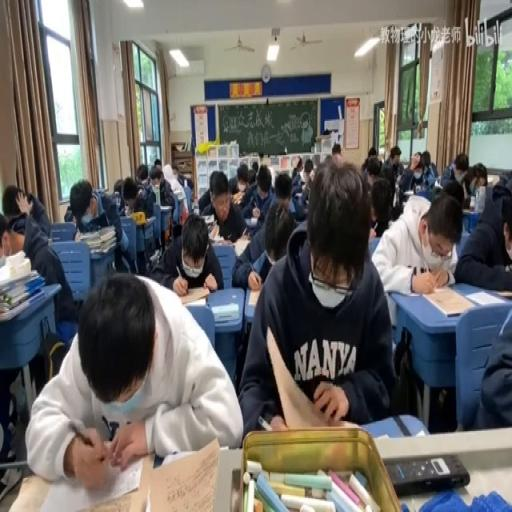calculator: (6, 451, 154, 512), (144, 435, 221, 512), (420, 283, 474, 314), (464, 288, 503, 306), (177, 286, 209, 306), (210, 300, 238, 322), (234, 234, 250, 258), (91, 209, 107, 228), (210, 233, 233, 246), (246, 287, 260, 307), (148, 248, 160, 268), (230, 188, 244, 205), (414, 186, 430, 200), (208, 222, 219, 240), (462, 200, 476, 212), (153, 184, 160, 206), (202, 213, 214, 225), (486, 175, 499, 186), (144, 214, 155, 224), (248, 214, 258, 224), (434, 176, 442, 188), (192, 200, 198, 214), (403, 189, 414, 196), (183, 178, 187, 186)
paper: (27, 268, 241, 484), (238, 156, 394, 436), (2, 182, 82, 337), (371, 186, 461, 306), (453, 173, 512, 292), (65, 175, 129, 279), (149, 210, 222, 293), (469, 289, 511, 431), (196, 165, 238, 218), (144, 162, 177, 226), (243, 164, 275, 230), (398, 146, 432, 194), (2, 182, 30, 219), (462, 164, 485, 200), (439, 179, 464, 208), (272, 170, 291, 204), (384, 145, 402, 178), (289, 192, 307, 220), (360, 145, 377, 174), (122, 179, 138, 206), (0, 211, 10, 254), (234, 162, 249, 189), (174, 168, 192, 190), (112, 176, 125, 206), (134, 164, 148, 186), (454, 154, 468, 176), (496, 168, 510, 189), (291, 155, 303, 179), (392, 182, 402, 208), (178, 196, 188, 220), (302, 178, 311, 199), (246, 166, 255, 184), (429, 160, 438, 178), (260, 154, 270, 168), (331, 142, 341, 155), (152, 171, 162, 182), (152, 158, 162, 168), (304, 162, 311, 175), (322, 154, 331, 162), (172, 170, 178, 180)
person: (384, 452, 468, 494)
